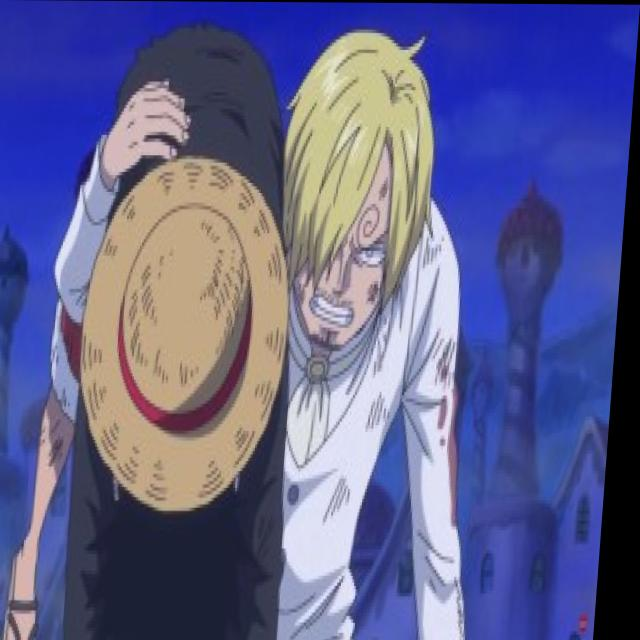Sangdi: (272, 24, 459, 353)
